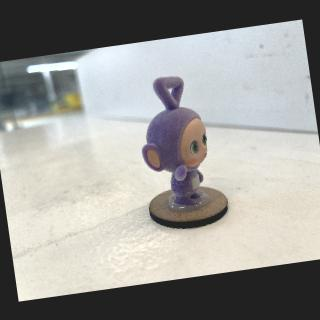teletubby: (142, 76, 207, 206)
